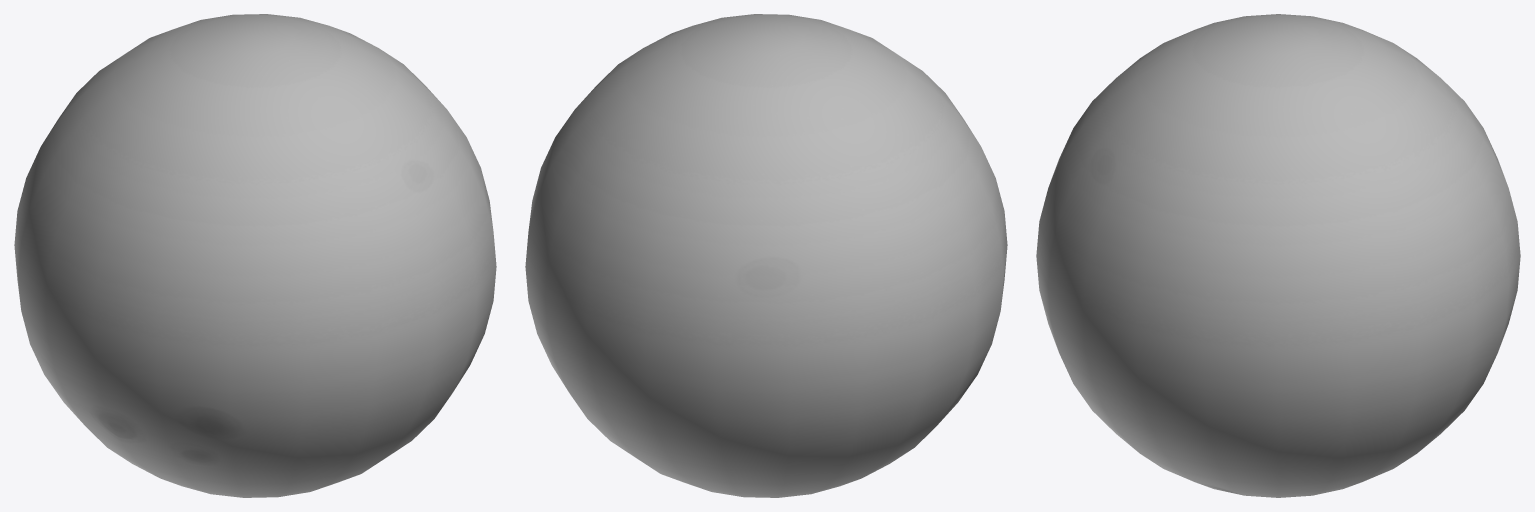
File: Player_model.fbx
3 views of the same model, side by side, from view 1: azimuth 30°, elevation 25°; view 2: azimuth 150°, elevation 25°; view 3: azimuth 270°, elevation 25° (orthographic).
Visible parts, largest first — view 1: pSphere2; view 2: pSphere2; view 3: pSphere2.
Part boxes in pixels (box(x1,y1,x2,y2)): pSphere2: box(14, 14, 496, 497); pSphere2: box(525, 14, 1007, 497); pSphere2: box(1036, 14, 1520, 497).
Size of the model in its own units: 0.1434 by 0.1434 by 0.1434.
Materials: 1 (1 with a texture image).
